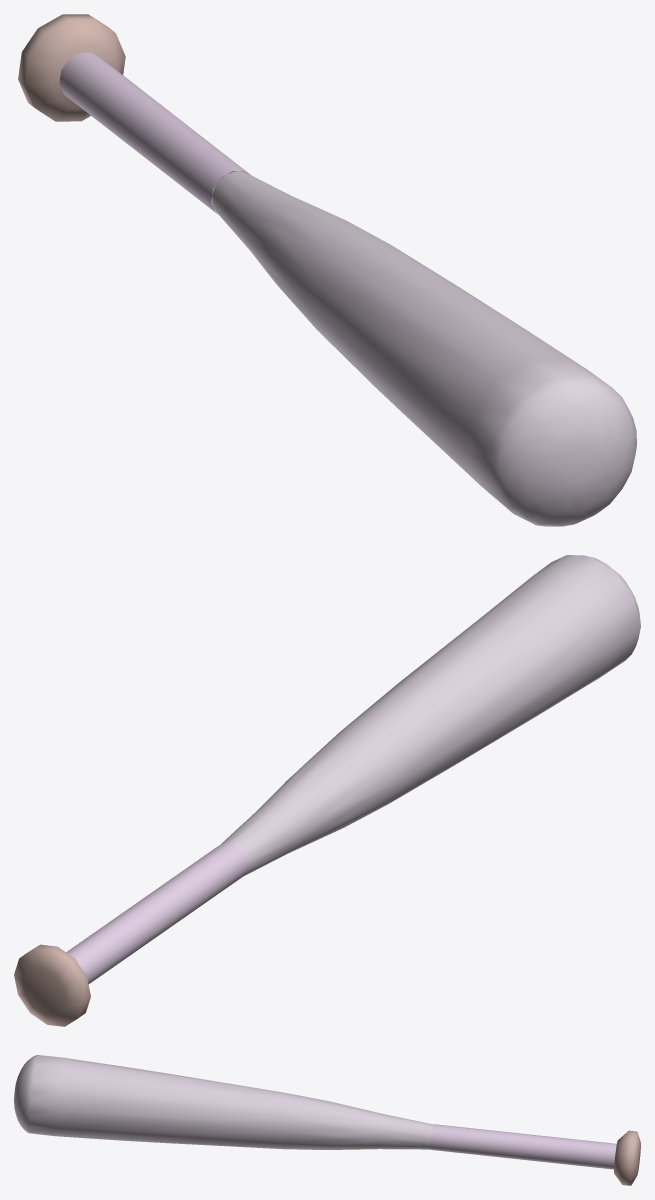
The model's file is bat.fbx.
3 views of the same model, one above another, from view 1: azimuth 30°, elevation 25°; view 2: azimuth 150°, elevation 25°; view 3: azimuth 270°, elevation 25° (orthographic). The views are drawn at different scales.
Parts seen in each view (by area): view 1: w_nessbat_reference; view 2: w_nessbat_reference; view 3: w_nessbat_reference.
Boxes of the visible parts, x1,y1,x2,y2 form: w_nessbat_reference: (18,14,636,526); w_nessbat_reference: (14,555,640,1026); w_nessbat_reference: (14,1055,640,1185).
Size of the model in its own units: 24.39 by 21.13 by 120.
